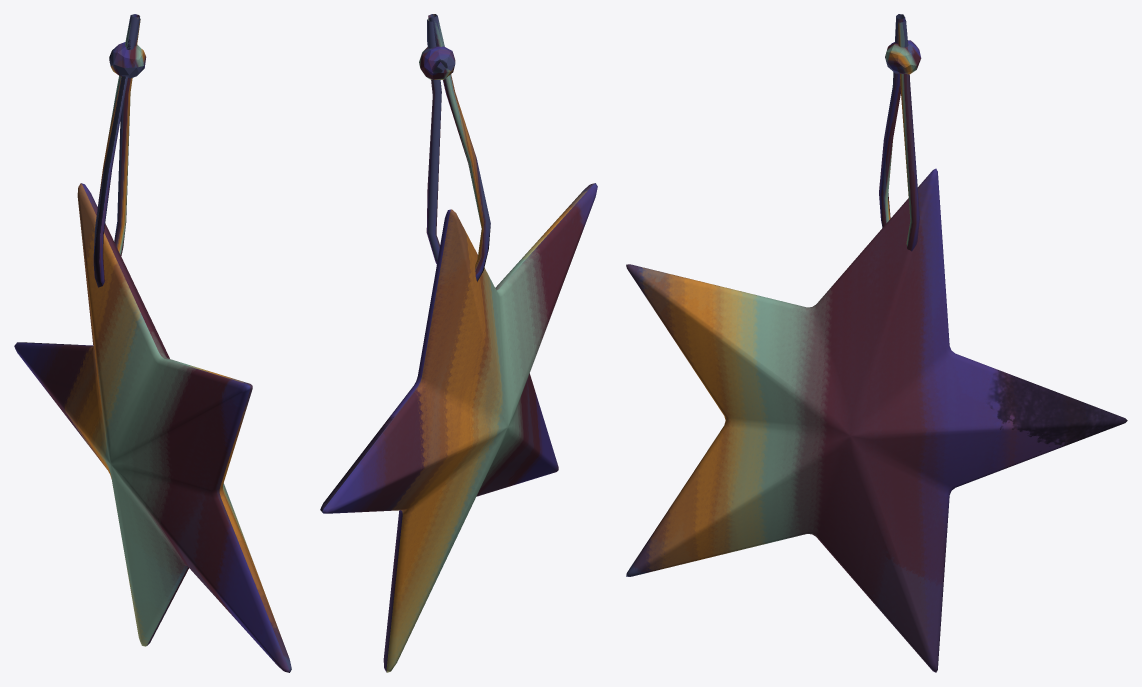
Rendered from LO_star.glb.
The picture shows the model from 3 angles, left to right: view 1: azimuth 30°, elevation 25°; view 2: azimuth 150°, elevation 25°; view 3: azimuth 270°, elevation 25°; orthographic projection.
Parts seen in each view (by area): view 1: Gold_star; view 2: Gold_star; view 3: Gold_star.
Boxes of the visible parts, bbox=[...] form: Gold_star: bbox=[14, 14, 291, 672]; Gold_star: bbox=[320, 14, 597, 672]; Gold_star: bbox=[626, 14, 1127, 672].
Size of the model in its own units: 0.0428 by 0.293 by 0.2071.
1 material, 1 textured.
